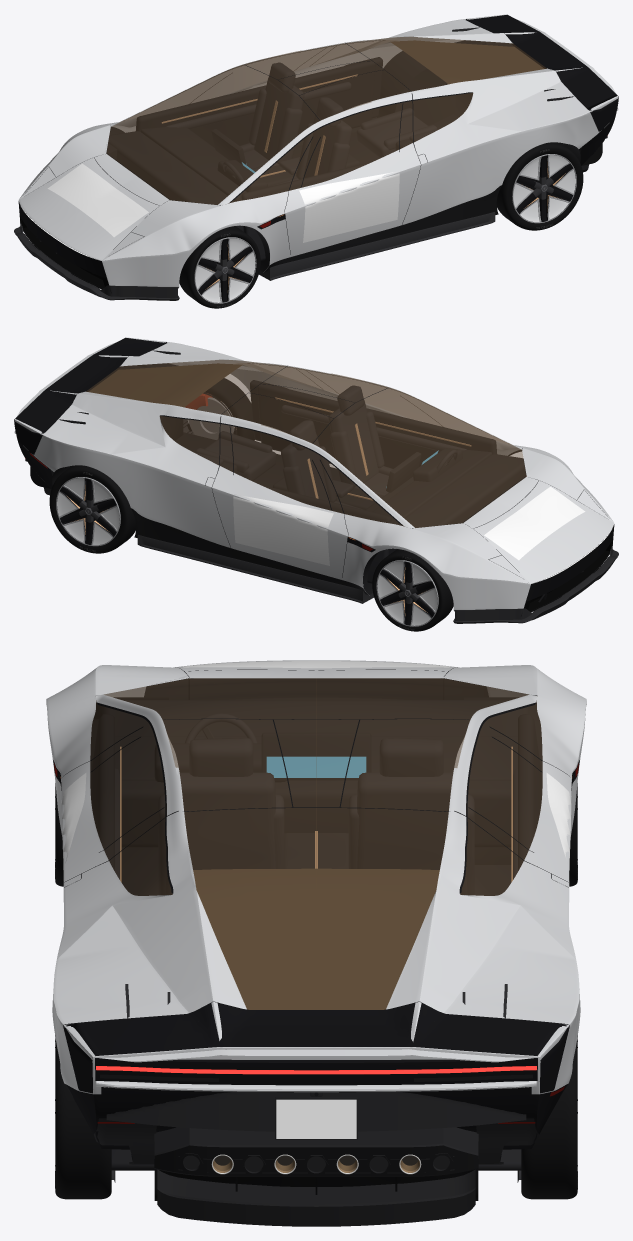
The model's file is car_hi.glb.
3 renders of one model, top to bottom at view 1: azimuth 30°, elevation 25°; view 2: azimuth 150°, elevation 25°; view 3: azimuth 270°, elevation 25°, orthographic. The views are drawn at different scales.
Parts seen in each view (by area): view 1: Body, Decals, Thrusters, WingWell, Rim_RL, Rim_FL, Tyre_RL, Tyre_FL; view 2: Body, Decals, WingWell, Thrusters, Rim_RR, Rim_FR, Tyre_RR, Tyre_FR, Tyre_RL, Brake_RL; view 3: Body, Thrusters, WingWell, Decals, Tyre_RL, Tyre_RR, Tyre_FL, Steering.
Part boxes in pixels (x1,y1,x2,y2): Body: [14, 14, 618, 300]; Decals: [47, 81, 399, 242]; Thrusters: [390, 40, 607, 172]; WingWell: [466, 14, 618, 131]; Rim_RL: [512, 149, 576, 228]; Rim_FL: [194, 233, 256, 308]; Tyre_RL: [496, 142, 583, 230]; Tyre_FL: [179, 226, 260, 308]; Body: [14, 337, 618, 623]; Decals: [233, 404, 585, 565]; WingWell: [14, 337, 166, 454]; Thrusters: [25, 363, 242, 495]; Rim_RR: [56, 472, 120, 552]; Rim_FR: [376, 556, 438, 631]; Tyre_RR: [49, 465, 136, 553]; Tyre_FR: [372, 549, 453, 631]; Tyre_RL: [183, 378, 254, 440]; Brake_RL: [185, 393, 234, 439]; Body: [46, 660, 586, 1194]; Thrusters: [94, 868, 538, 1226]; WingWell: [63, 1003, 569, 1093]; Decals: [61, 661, 571, 1138]; Tyre_RL: [55, 1037, 111, 1199]; Tyre_RR: [521, 1037, 577, 1199]; Tyre_FL: [55, 719, 98, 886]; Steering: [185, 713, 257, 743].
Bounding box in the file's own units: 5.12 × 1.34 × 2.27.
